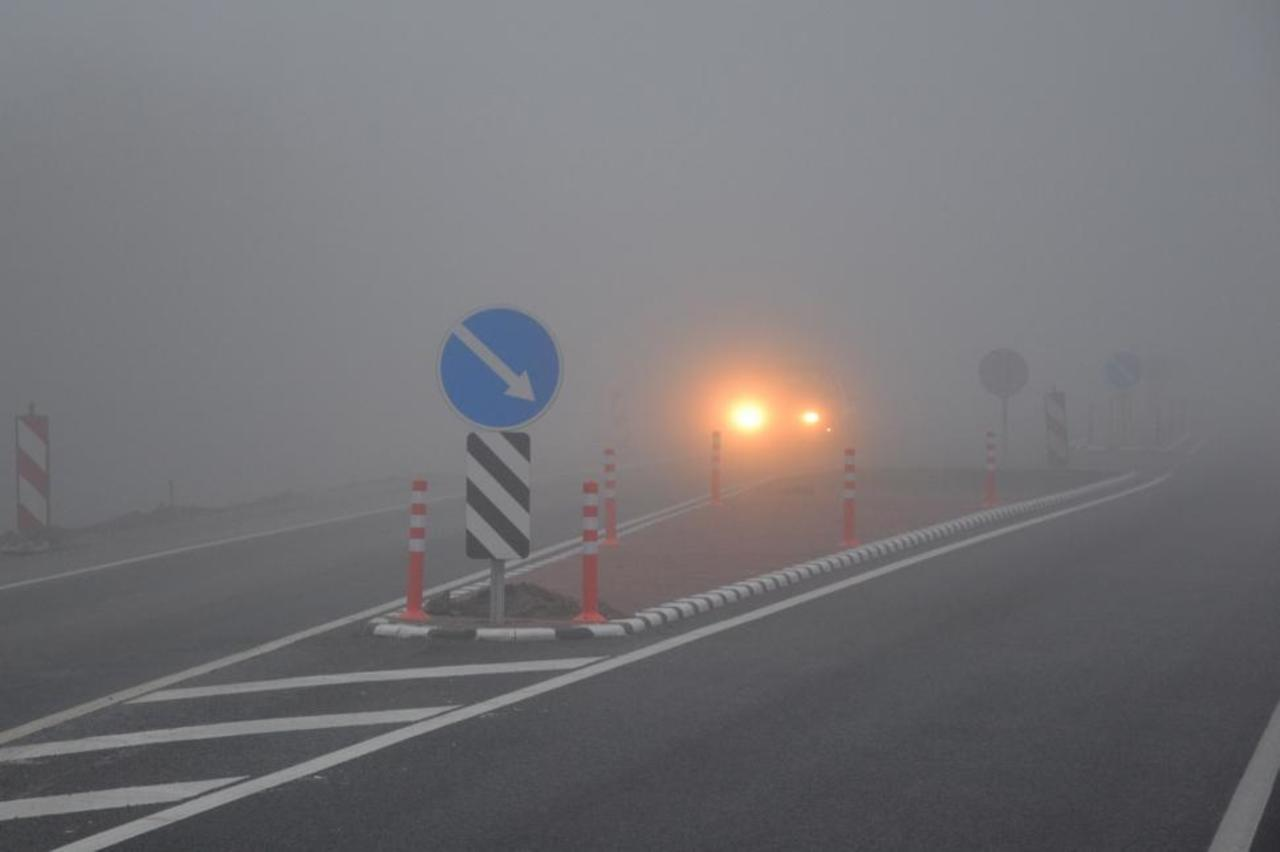car: (722, 354, 850, 460)
